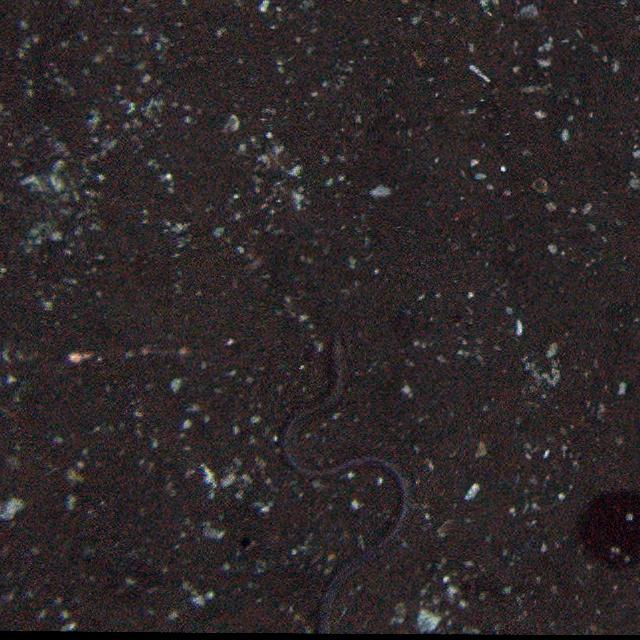eel: (274, 334, 414, 635)
